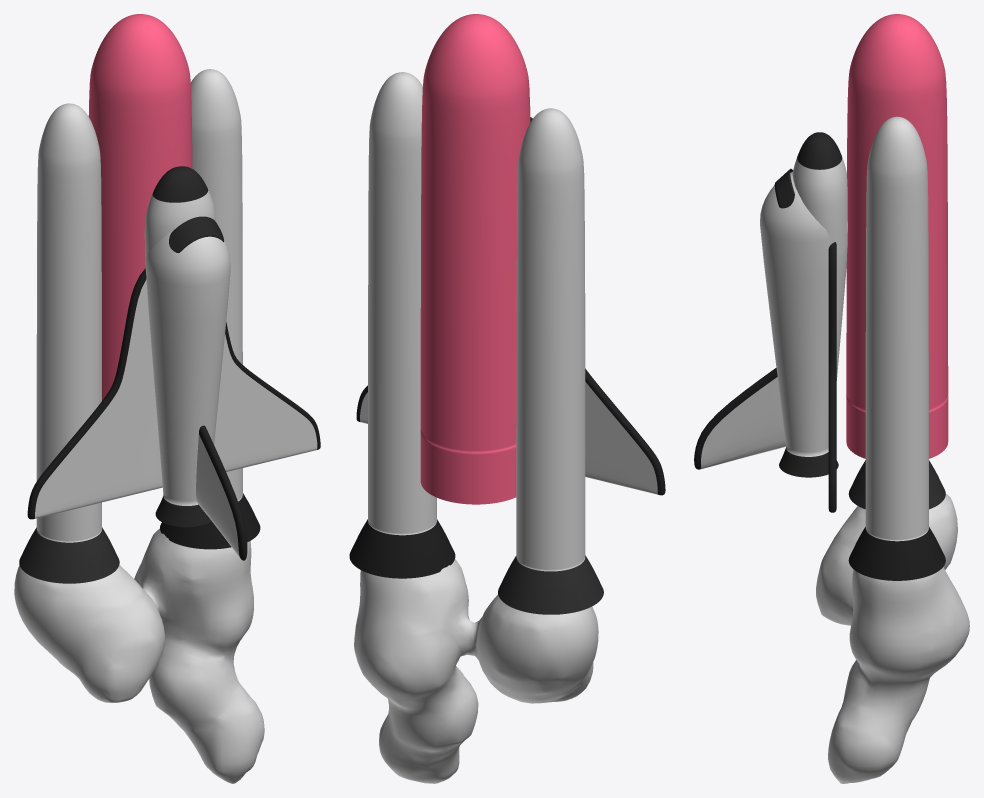
File: Spacers.gltf
The picture shows the model from 3 angles, left to right: view 1: azimuth 30°, elevation 25°; view 2: azimuth 150°, elevation 25°; view 3: azimuth 270°, elevation 25°; orthographic projection. The views are drawn at different scales.
Visible parts, largest first — view 1: flame.001, Cylinder.004, wing.002, Cylinder.042, shuttle.002, Cylinder.029, wing-2.002, Plane.010; view 2: Cylinder.042, Cylinder.004, flame.001, Cylinder.029, wing.002; view 3: Cylinder.029, flame.001, Cylinder.042, shuttle.002, wing-2.002, wing.002, Cylinder.004, Plane.010.
Part boxes in pixels (x1,y1,x2,y2): flame.001: (14, 528, 264, 783); Cylinder.004: (19, 103, 119, 583); wing.002: (27, 268, 320, 519); Cylinder.042: (88, 14, 192, 400); shuttle.002: (144, 166, 230, 527); Cylinder.029: (160, 69, 260, 549); wing-2.002: (196, 425, 247, 560); Plane.010: (169, 216, 224, 252); Cylinder.042: (420, 14, 530, 504); Cylinder.004: (498, 108, 603, 614); flame.001: (354, 559, 598, 783); Cylinder.029: (349, 72, 455, 578); wing.002: (356, 368, 665, 495); Cylinder.029: (848, 116, 945, 580); flame.001: (816, 494, 969, 783); Cylinder.042: (846, 14, 948, 458); shuttle.002: (760, 132, 847, 477); wing-2.002: (694, 368, 785, 469); wing.002: (828, 242, 836, 512); Cylinder.004: (848, 460, 945, 509); Plane.010: (774, 168, 794, 208).
Bounding box in the file's own units: 2.79 × 6.95 × 2.36.
